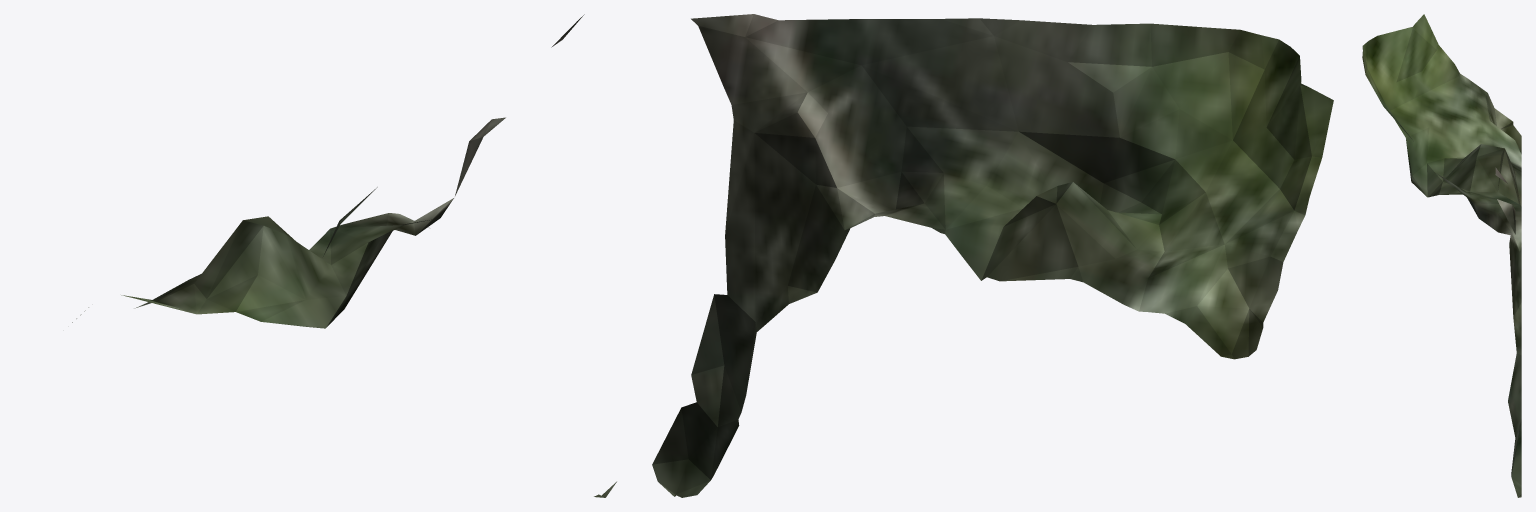
3 views of the same model, side by side, from view 1: azimuth 30°, elevation 25°; view 2: azimuth 150°, elevation 25°; view 3: azimuth 270°, elevation 25° (orthographic). The views are drawn at different scales.
Bounding box in the file's own units: 1.21 × 0.9221 × 0.4372.
Materials: 1 (1 with a texture image).
